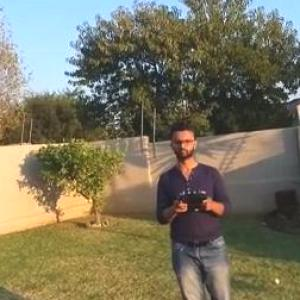follow: (146, 113, 236, 299)
